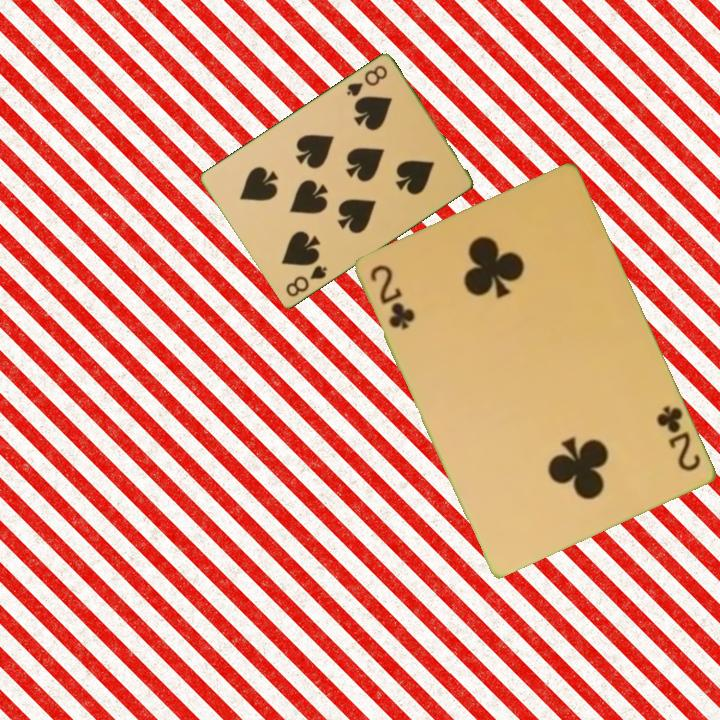2c: (653, 402, 705, 475), (367, 261, 417, 333)
8s: (282, 262, 330, 300), (343, 62, 390, 100)
